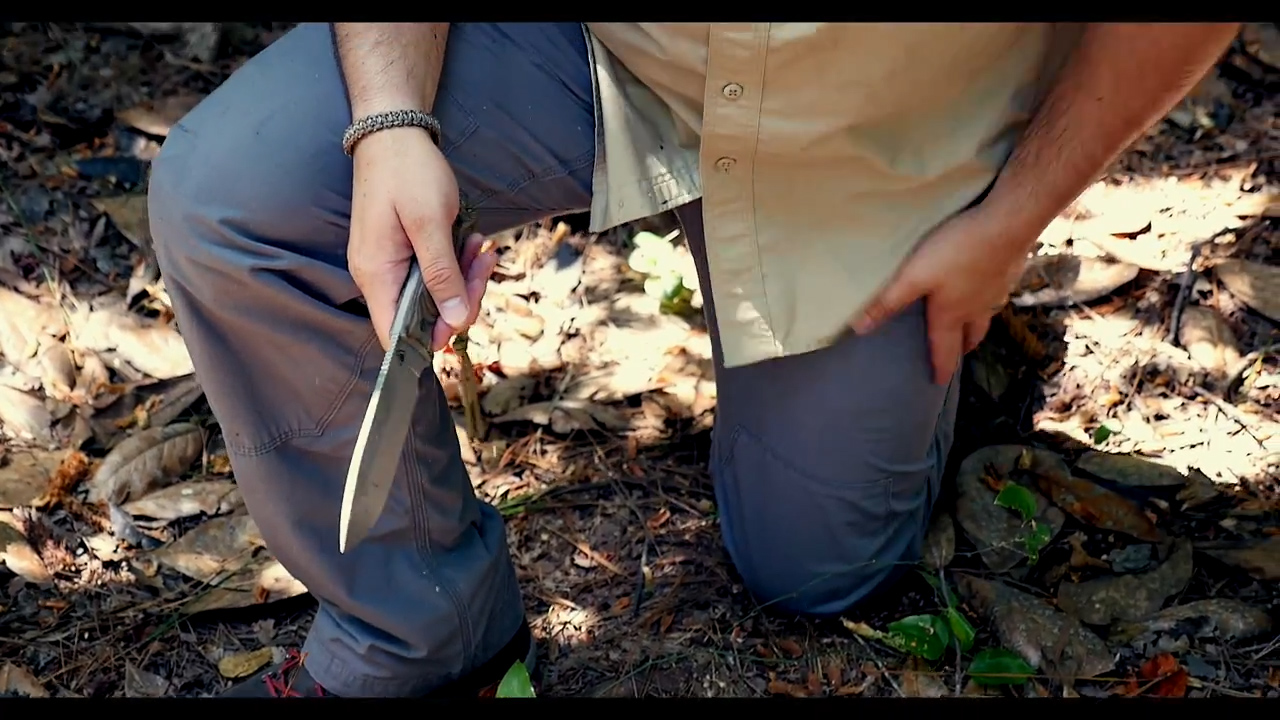knife: (325, 233, 502, 571)
